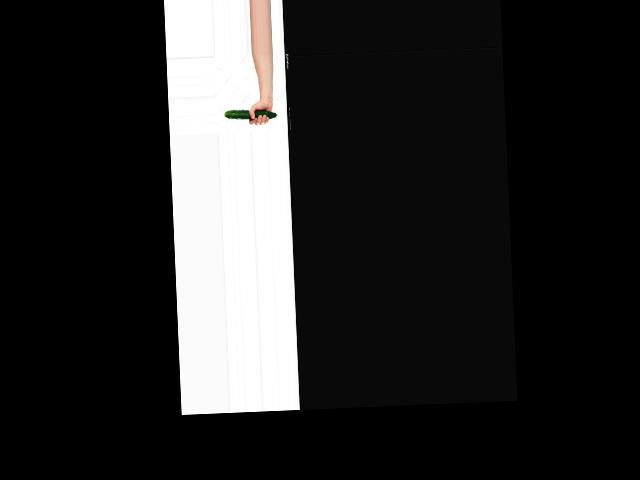cucumber: (224, 108, 278, 121)
